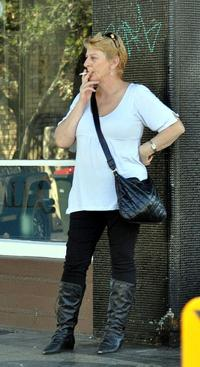person: (42, 32, 186, 355)
